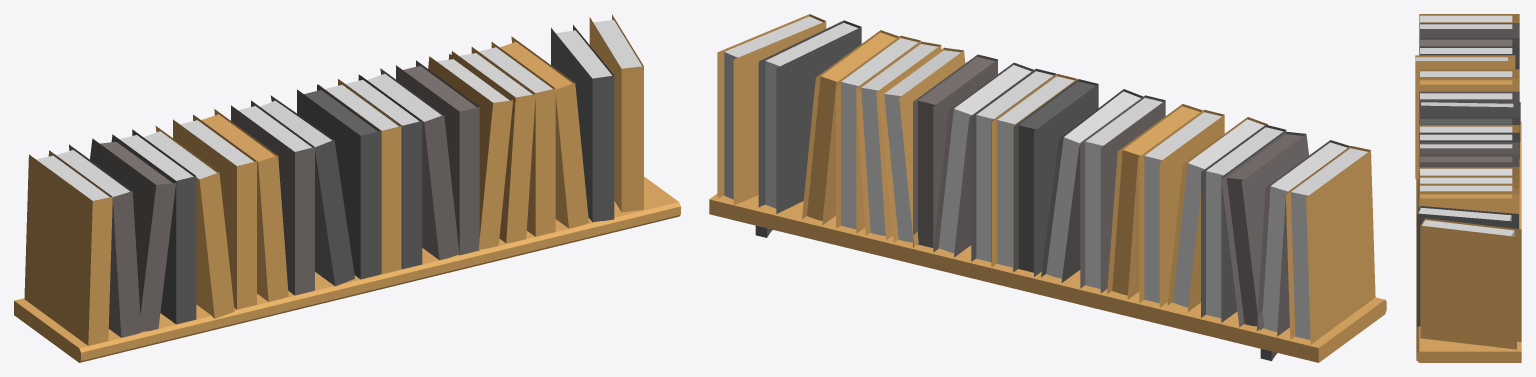
The model's file is EbatNeoshidannoNoEtoPolka.fbx.
The picture shows the model from 3 angles, left to right: view 1: azimuth 30°, elevation 25°; view 2: azimuth 150°, elevation 25°; view 3: azimuth 270°, elevation 25°; orthographic projection. The views are drawn at different scales.
Visible parts, largest first — view 1: Cube.001; view 2: Cube.001; view 3: Cube.001.
Boxes of the visible parts, box(x1,y1,x2,y2) form: Cube.001: box(14, 14, 680, 362); Cube.001: box(709, 14, 1386, 362); Cube.001: box(1415, 14, 1521, 362).
Size of the model in its own units: 657 by 177 by 129.
